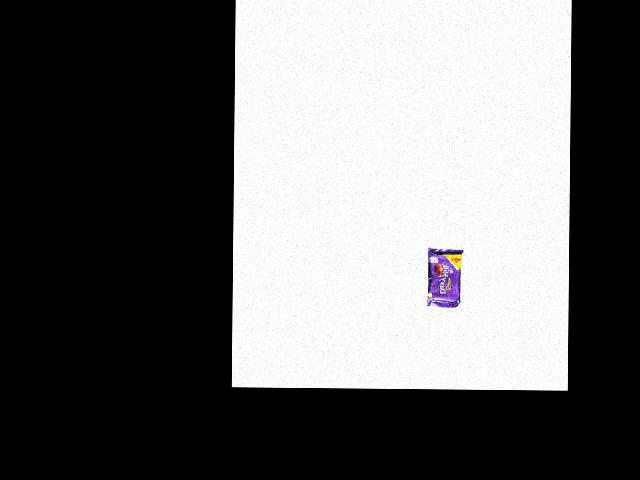chocolate: (422, 240, 463, 309)
